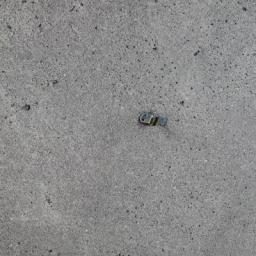FOD: (135, 108, 173, 133)
